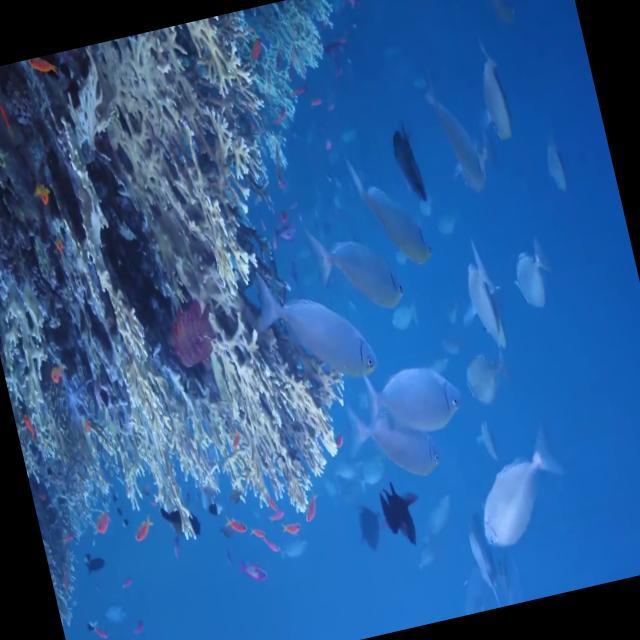fish: (237, 250, 383, 408), (464, 418, 582, 552), (295, 207, 413, 331), (338, 146, 442, 280), (352, 336, 476, 447), (338, 378, 446, 503), (460, 28, 528, 160), (441, 234, 514, 349), (152, 288, 234, 387), (448, 335, 526, 433), (501, 224, 562, 318), (381, 110, 434, 212), (370, 476, 431, 561), (411, 472, 468, 546), (535, 137, 580, 212), (84, 499, 122, 551), (292, 481, 324, 532), (26, 174, 59, 217), (278, 517, 312, 554), (234, 560, 272, 592), (25, 52, 62, 84), (224, 508, 255, 543), (132, 510, 162, 546), (245, 520, 272, 556)
